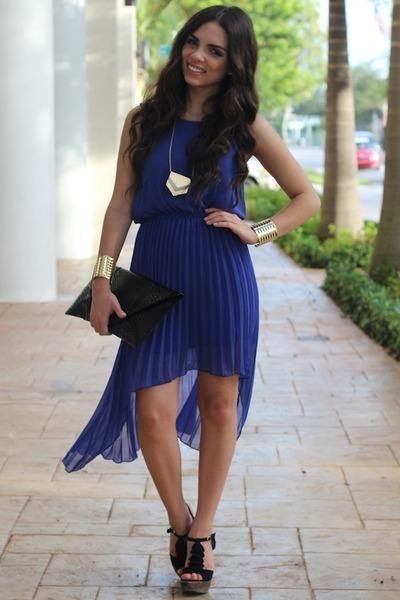bag: (65, 261, 175, 341)
dress: (62, 119, 258, 472)
shoe: (167, 521, 215, 578)
